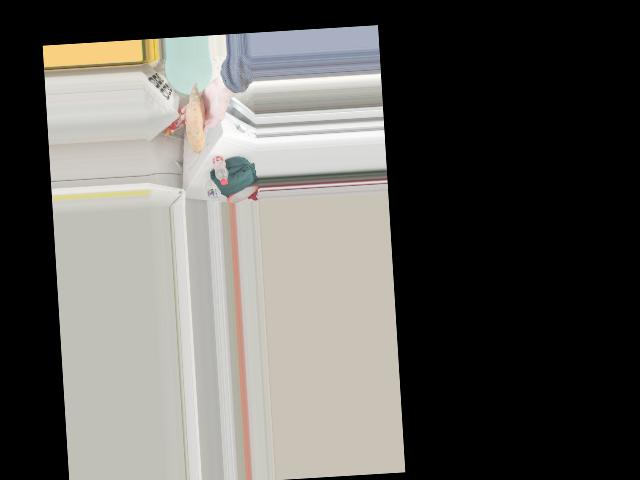sweet_potato: (187, 96, 211, 145)
